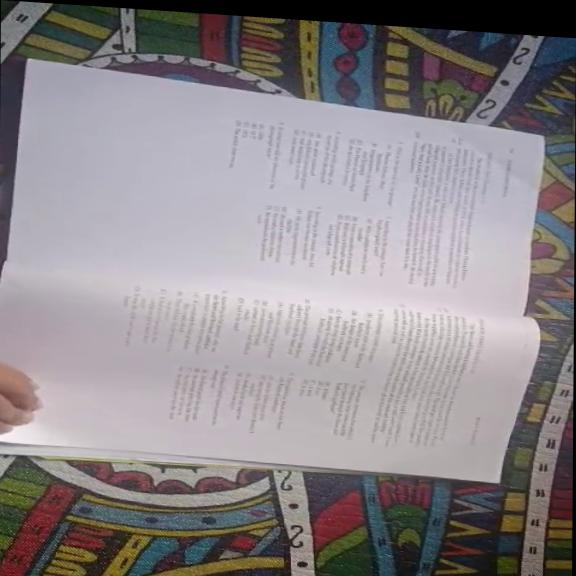Kertas: (28, 103, 520, 358), (0, 277, 493, 479)
